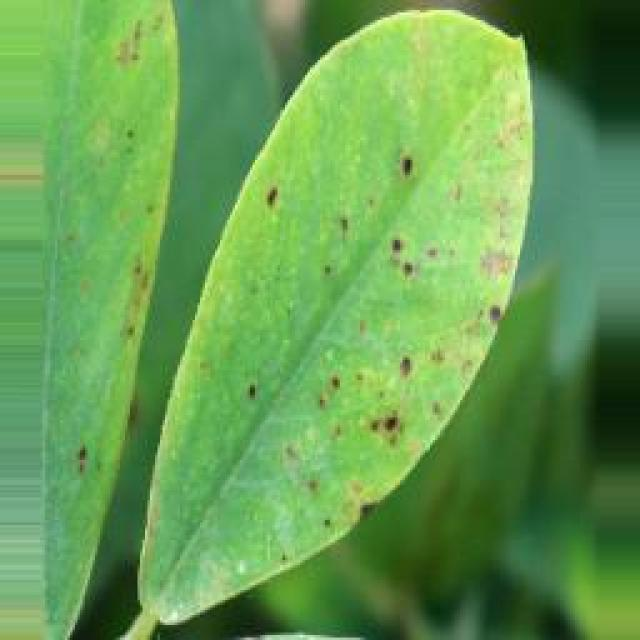Yellowish: (190, 28, 536, 568), (77, 0, 183, 557)
